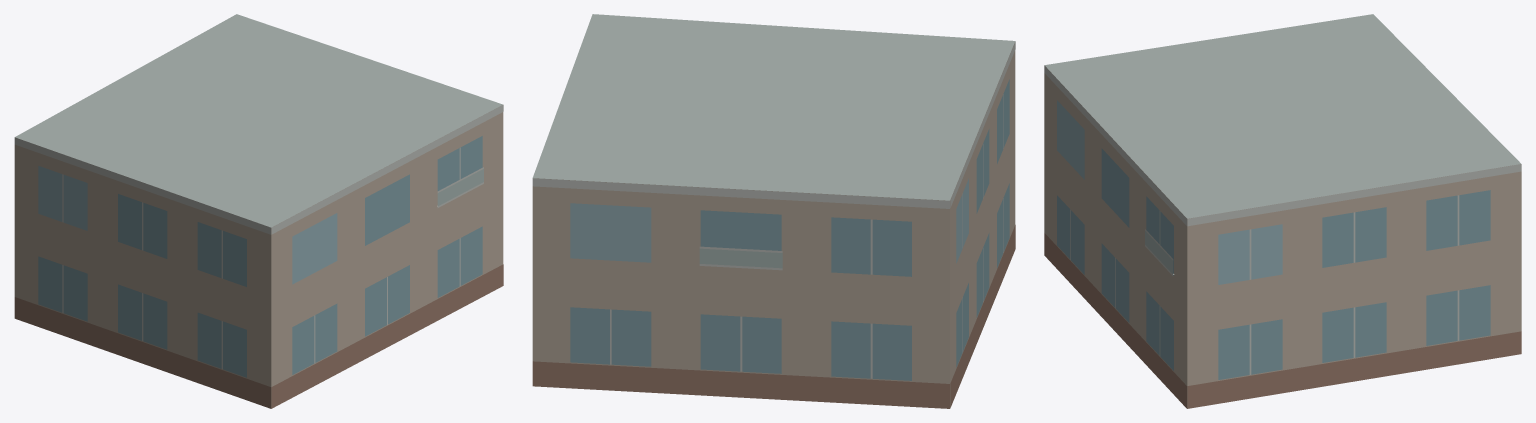
Rendered from survey-upis-32778125.glb.
3 views of the same model, side by side, from view 1: azimuth 30°, elevation 25°; view 2: azimuth 150°, elevation 25°; view 3: azimuth 270°, elevation 25° (orthographic). The views are drawn at different scales.
Visible parts, largest first — view 1: survey-upis-32778125.tmp; view 2: survey-upis-32778125.tmp; view 3: survey-upis-32778125.tmp.
Boxes of the visible parts, <box> form: survey-upis-32778125.tmp: <box>14,14,503,408</box>; survey-upis-32778125.tmp: <box>532,14,1015,408</box>; survey-upis-32778125.tmp: <box>1044,14,1521,408</box>.
Size of the model in its own units: 14.1 by 6.1 by 13.89.
